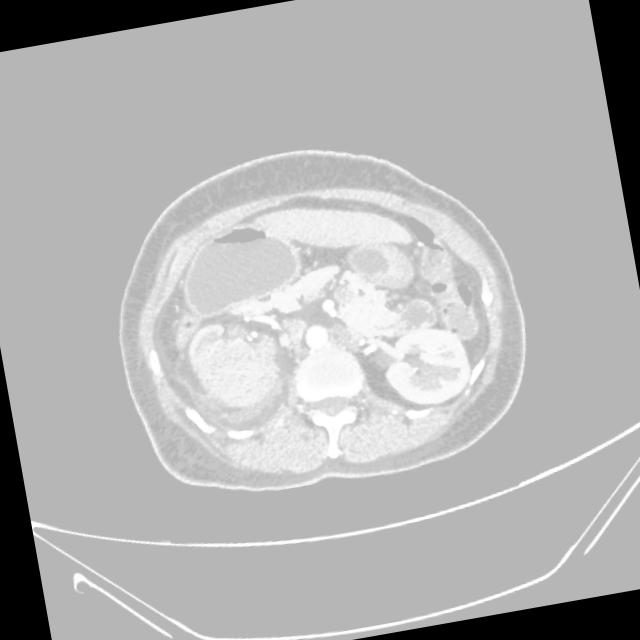TUMOR: (133, 172, 528, 395)
